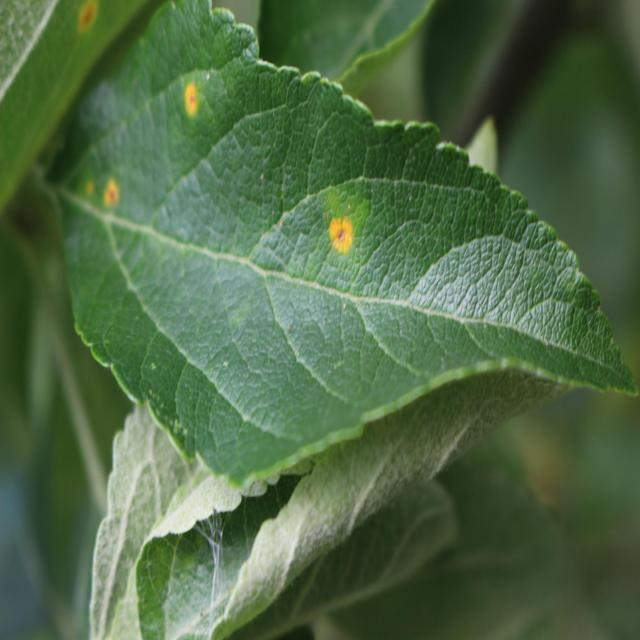rust: (52, 0, 640, 498)
